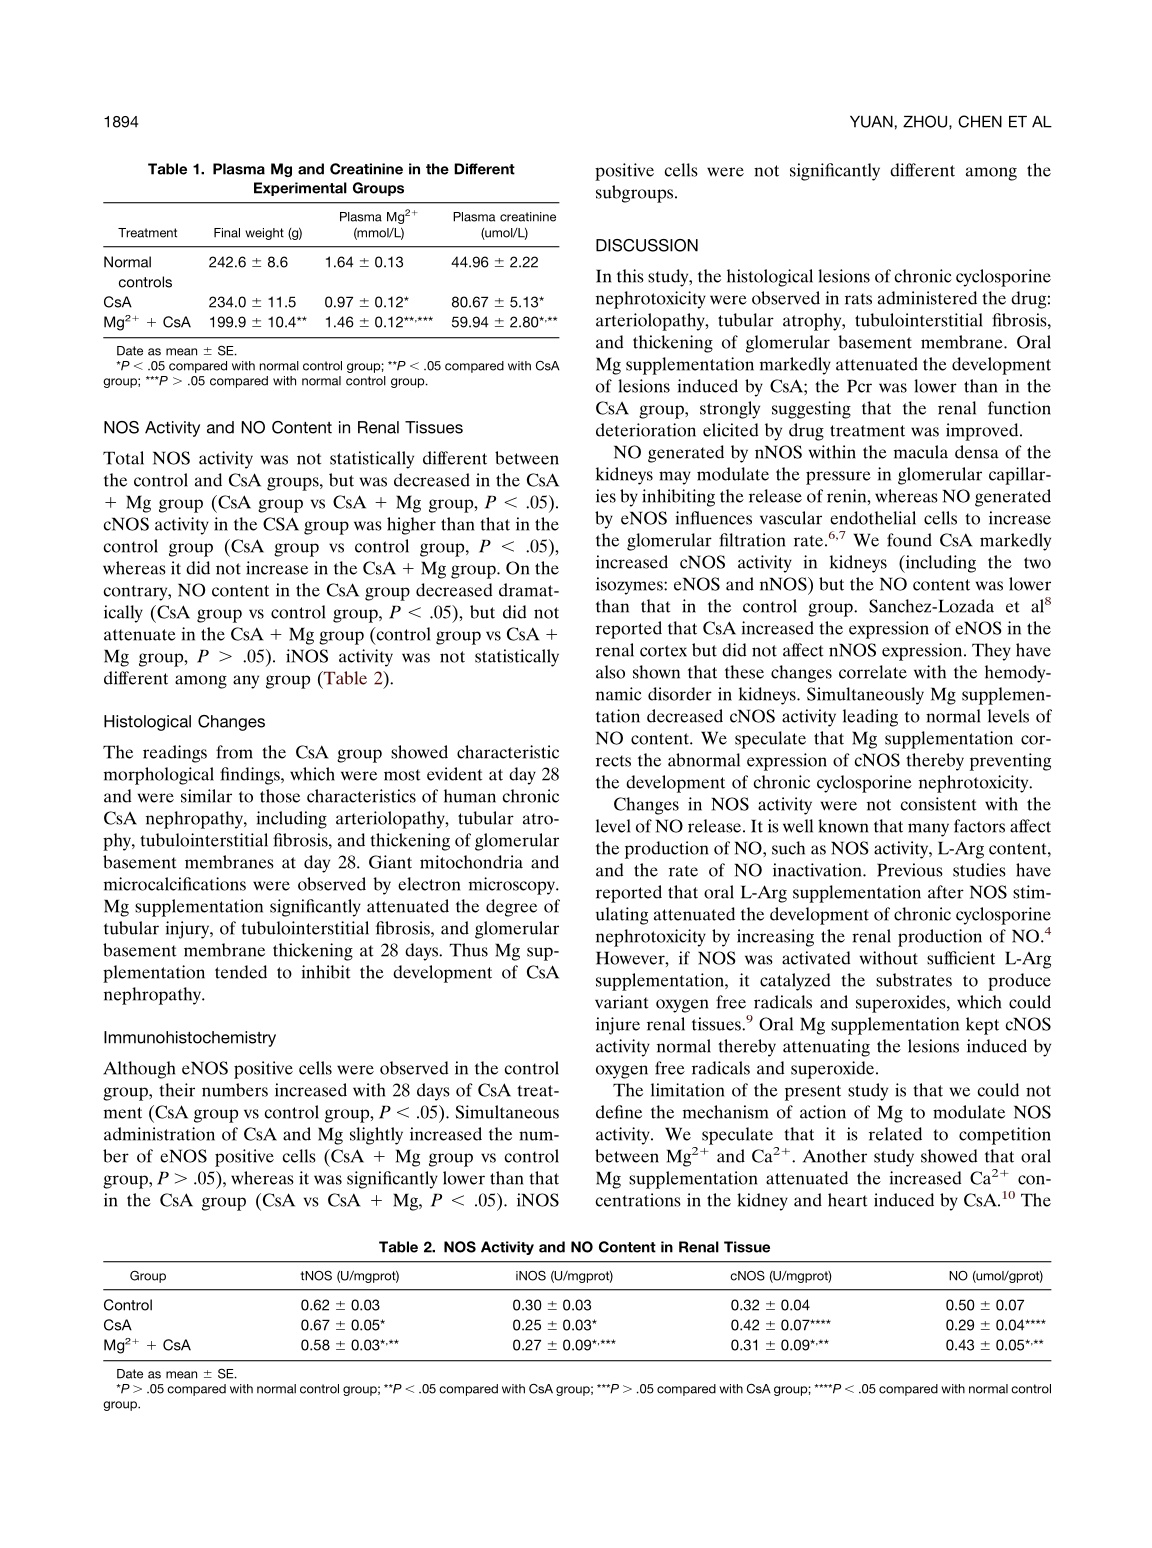partial_lined: (102, 1260, 1052, 1362), (102, 201, 560, 339)
